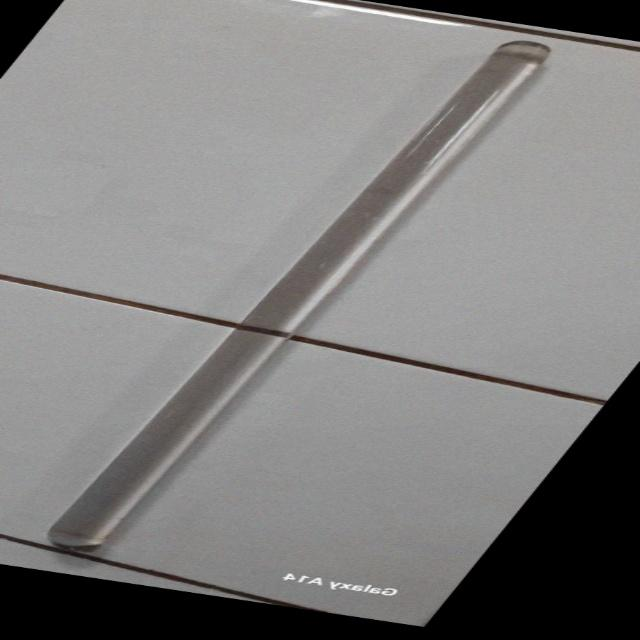Stirrer: (29, 28, 570, 572)
